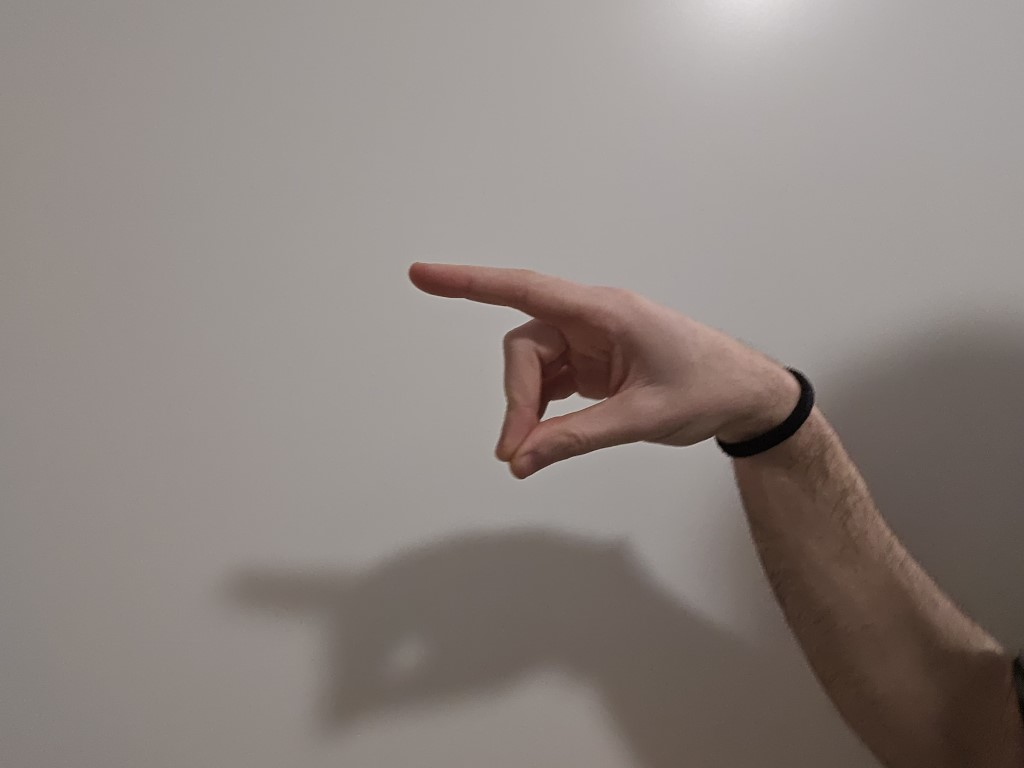p: (369, 222, 741, 504)
